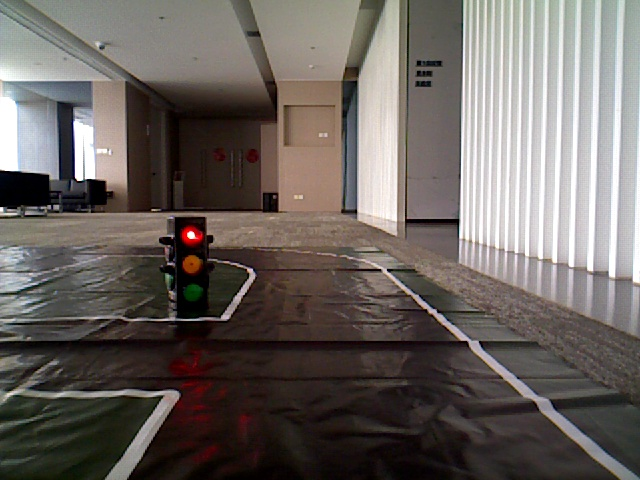red: (174, 217, 206, 308)
